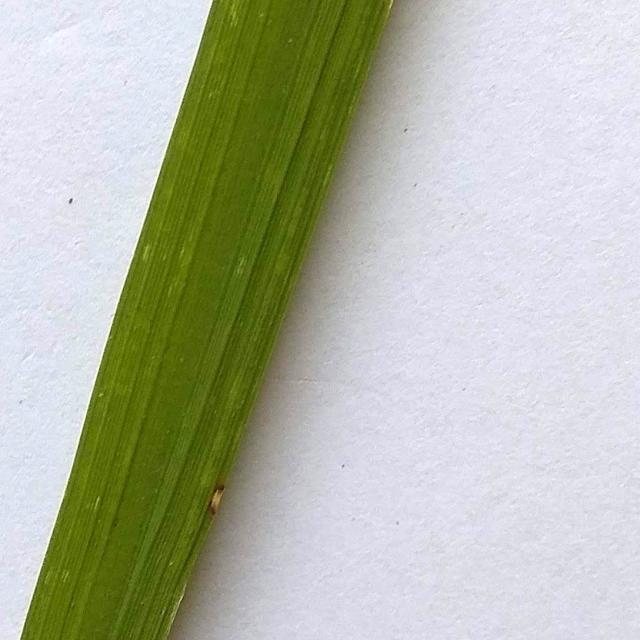Blast: (206, 485, 220, 514)
